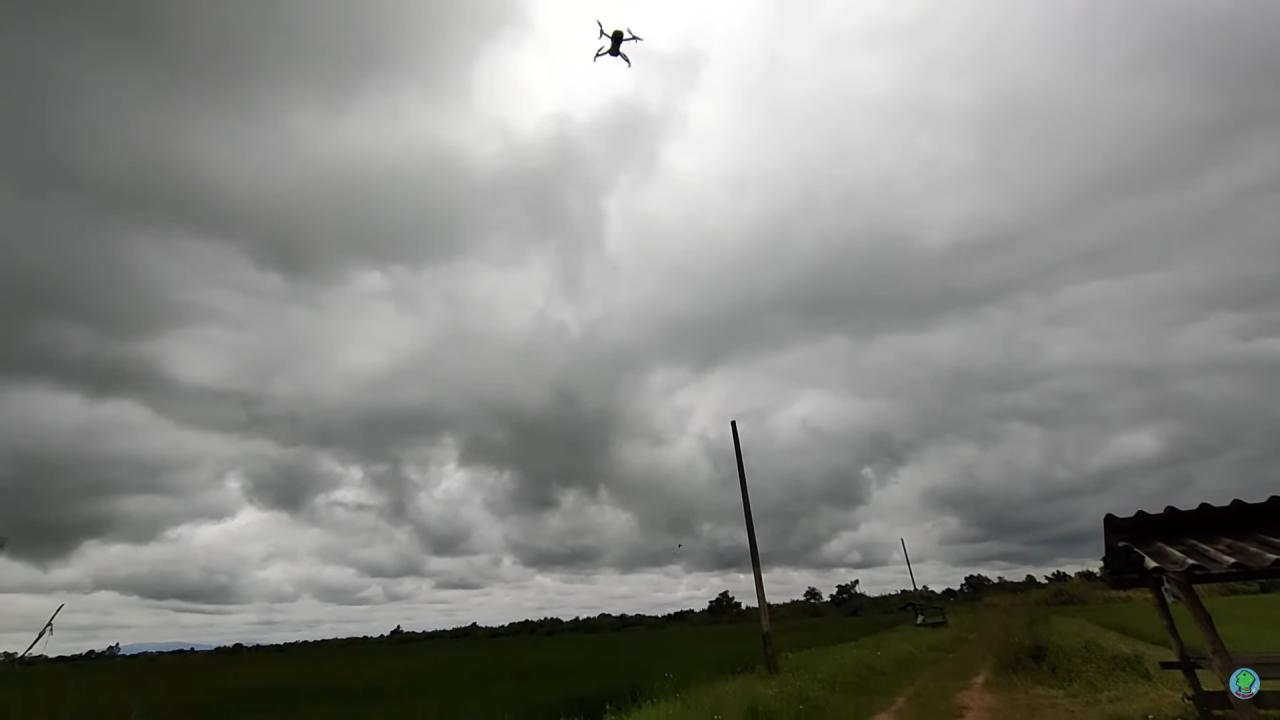Drone: (576, 16, 654, 73)
